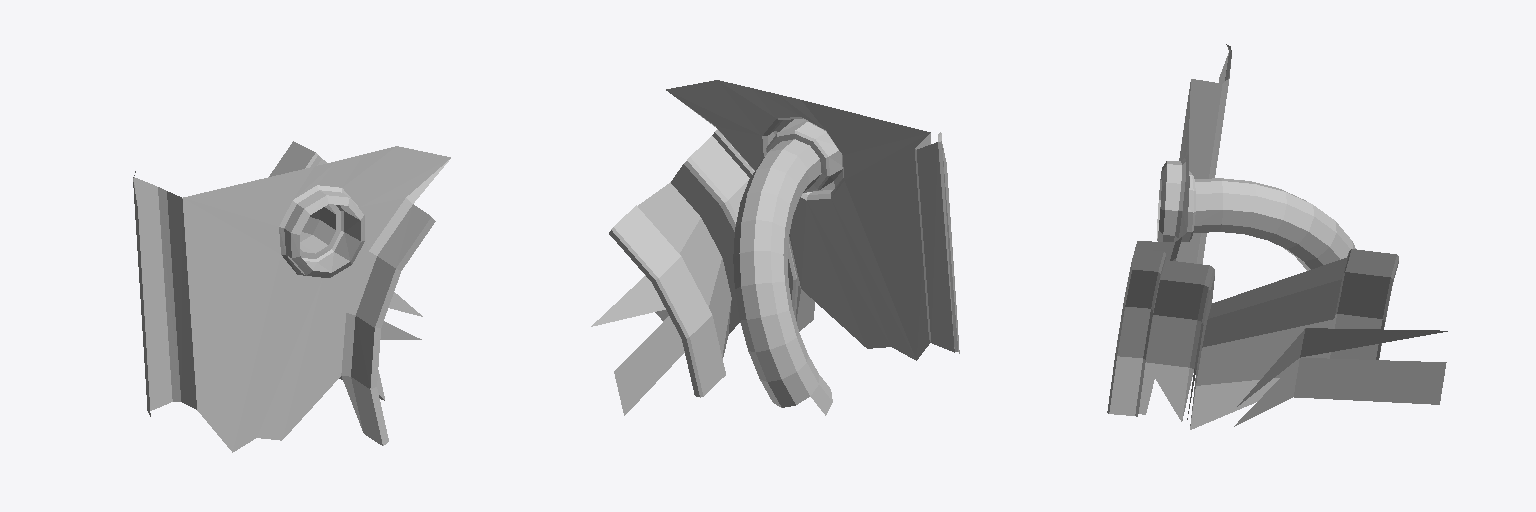
File: shard24.obj
3 views of the same model, side by side, from view 1: azimuth 30°, elevation 25°; view 2: azimuth 150°, elevation 25°; view 3: azimuth 270°, elevation 25° (orthographic).
Visible parts, largest first — view 1: defaultMaterial.022; view 2: defaultMaterial.022; view 3: defaultMaterial.022.
Boxes of the visible parts, box(x1,y1,x2,y2) form: defaultMaterial.022: box(133, 141, 450, 452); defaultMaterial.022: box(591, 80, 959, 415); defaultMaterial.022: box(1107, 44, 1447, 429).
Bounding box in the file's own units: 4.53 × 4.06 × 4.53.